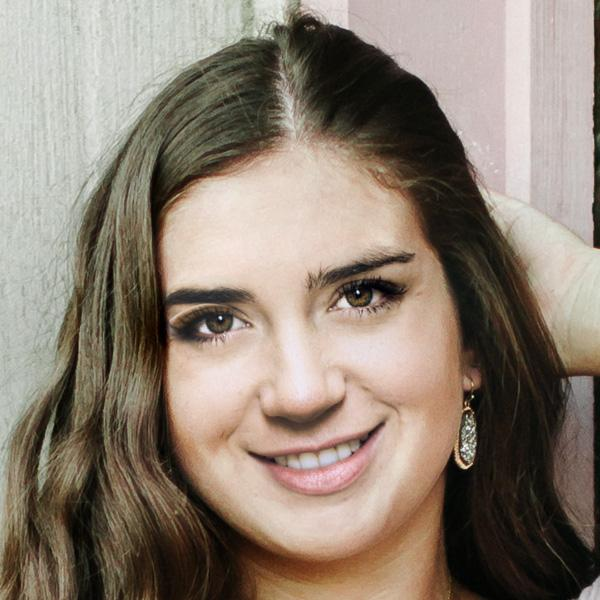Eyes: (157, 294, 259, 368), (314, 261, 411, 331)
